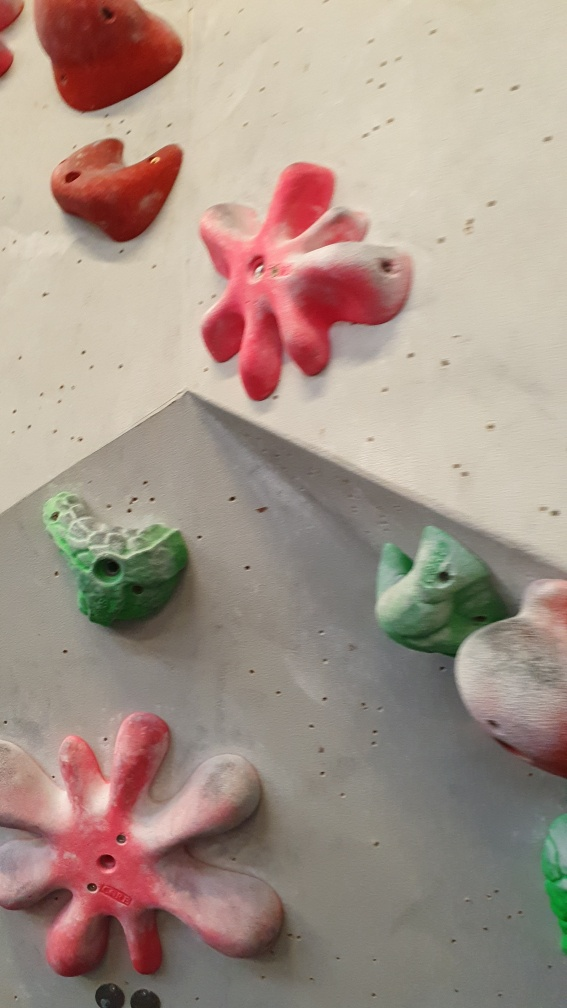Hand Start: (94, 976, 126, 1007), (125, 981, 162, 1007)
Jug: (372, 523, 519, 665)
Octopus Pinch: (1, 708, 296, 979), (191, 157, 419, 405)
Sloper: (453, 577, 567, 782)
